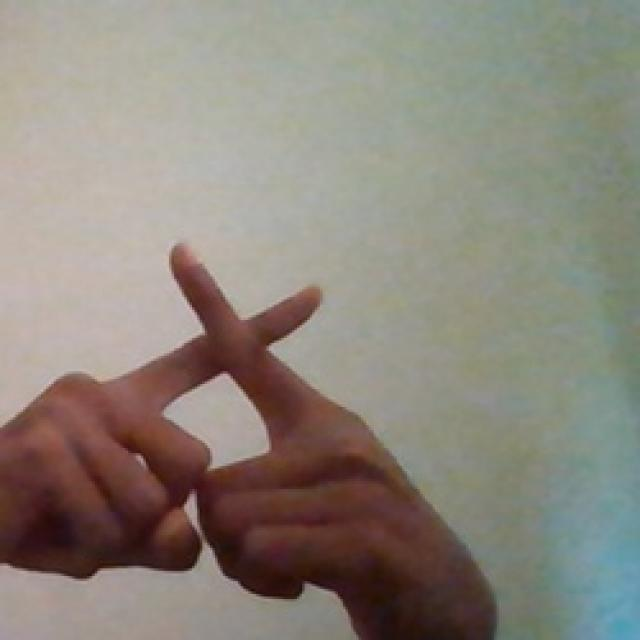Alphabet-X: (0, 199, 509, 640)
